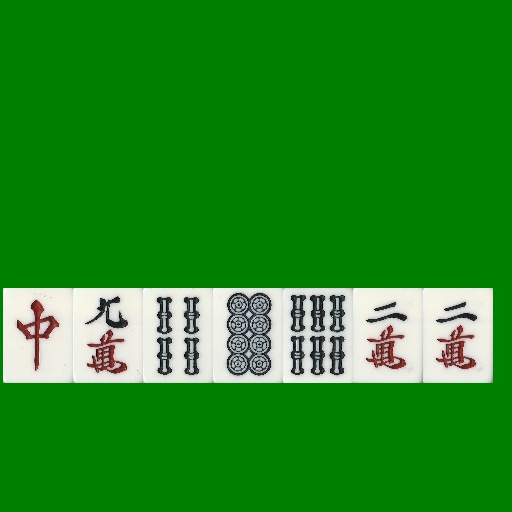2m: (353, 288, 423, 383), (423, 288, 493, 383)
4s: (143, 288, 213, 383)
6s: (283, 288, 353, 383)
8p: (213, 288, 283, 383)
9m: (73, 288, 143, 383)
tyun: (3, 288, 73, 383)
